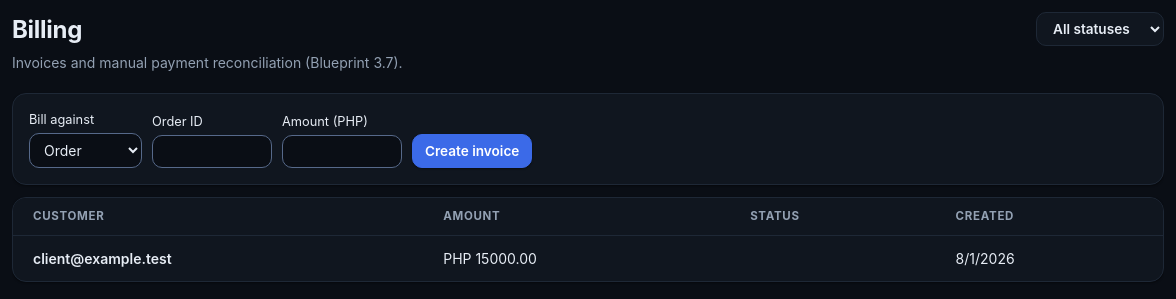
creating an invoice › surfaces the server's rejection
The image size is (1176, 299).
Check: the button "Create invoice" is shown, box top-left (412, 134), bottom-right (532, 168)
Type "2" into the number field labelled "Order ID" at (212,152), box top-left (152, 135), bottom-right (272, 168)
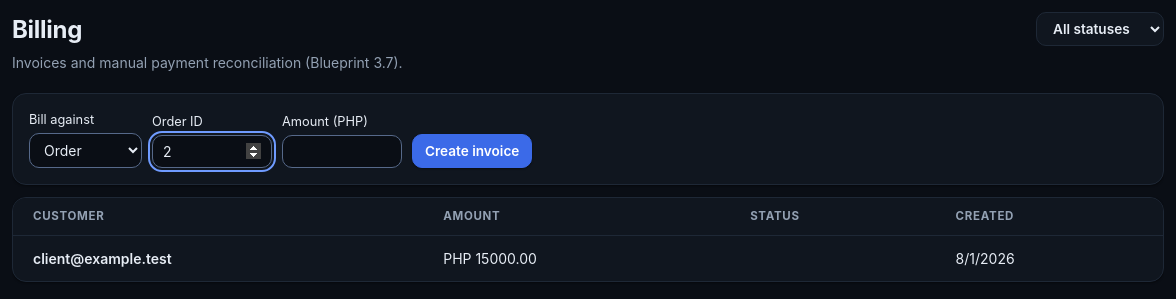
Type "1" into the field labelled "Amount (PHP)" at (342,152), box top-left (282, 135), bottom-right (402, 168)
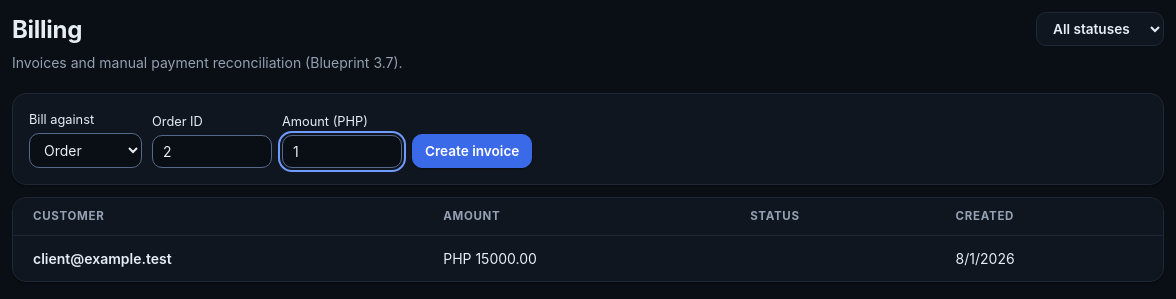
Click the button "Create invoice" at (472,151), box top-left (412, 134), bottom-right (532, 168)
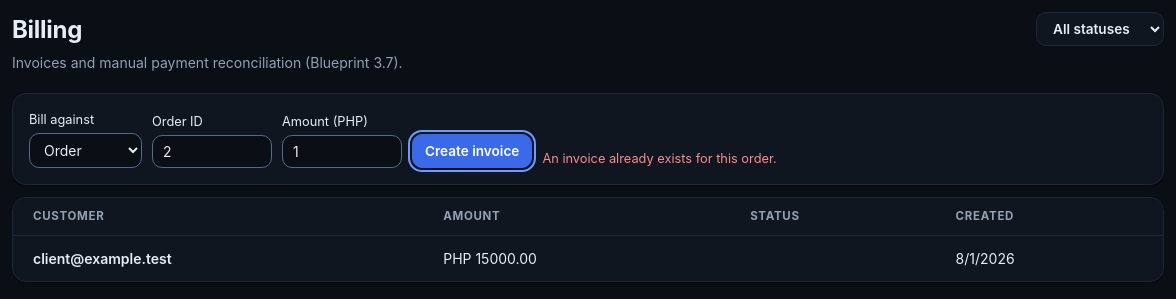
Check: the text "An invoice already exists for this order." is shown, box top-left (542, 149), bottom-right (777, 168)
